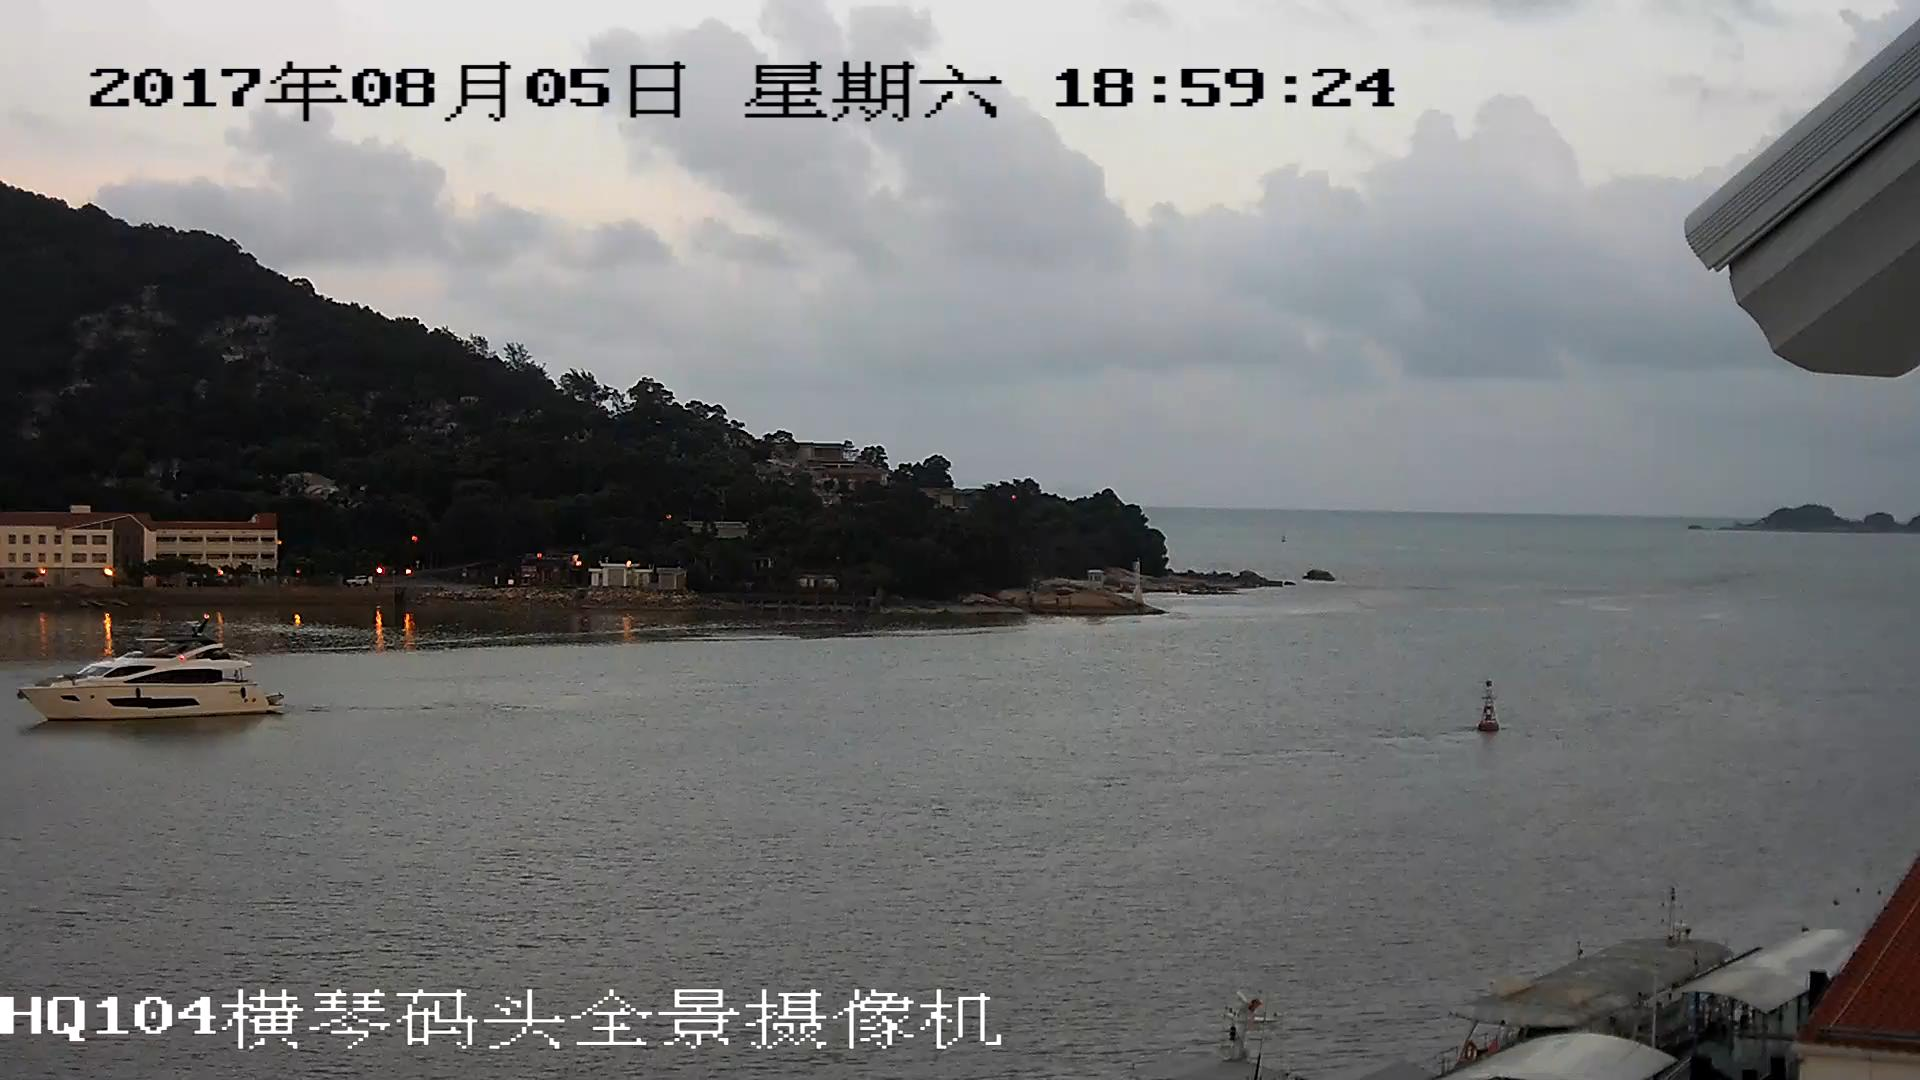passenger ship: (20, 631, 286, 717)
